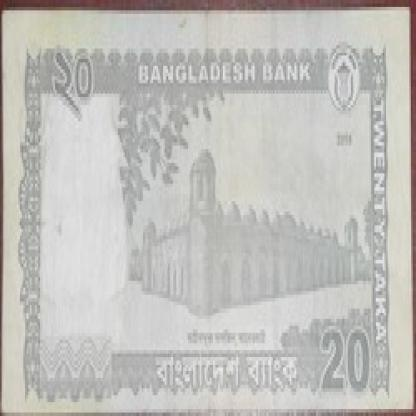Twenty: (318, 319, 373, 412), (48, 48, 100, 125)
